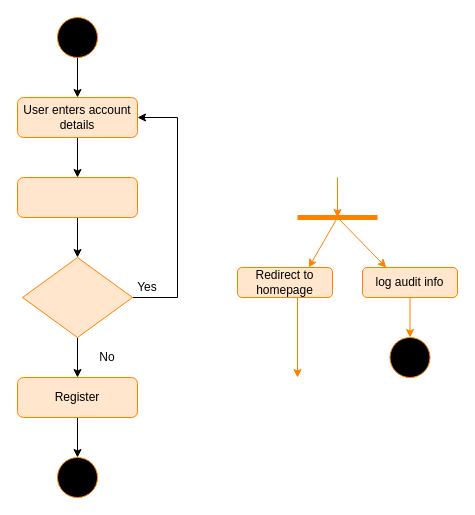
Some shapes in this 475 by 515 pixel diagram are drawn without their labels. The shapes that lost their labels are listed below. From the top down, each one's box as (x1, y1, x2, y2) in pixels, then its label:
(16, 176, 138, 218): Check provided details
(22, 256, 132, 338): User already exists
